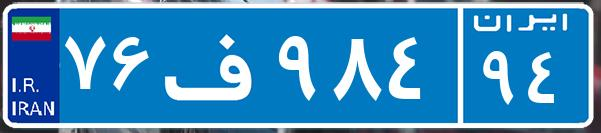4: (385, 28, 445, 110), (525, 38, 570, 115)
6: (110, 28, 158, 105)
7: (57, 26, 110, 107)
8: (330, 28, 385, 110)
9: (273, 28, 330, 110), (475, 38, 525, 113)
ف: (158, 15, 273, 115)
